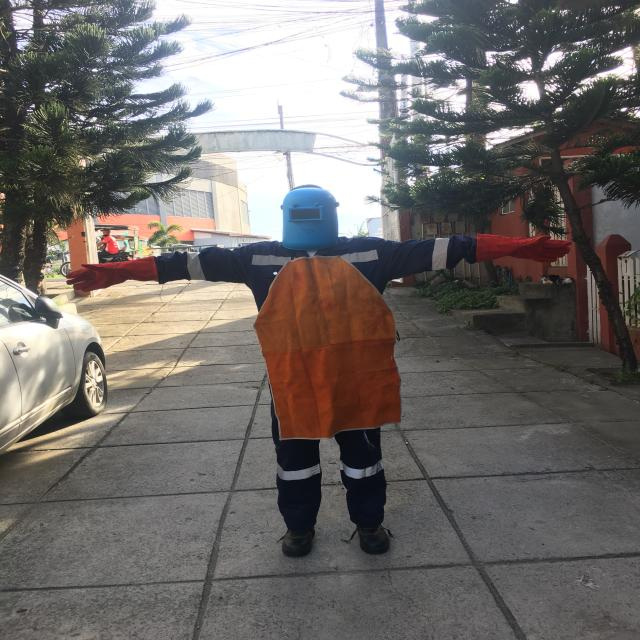with_helmet: (271, 186, 366, 268)
